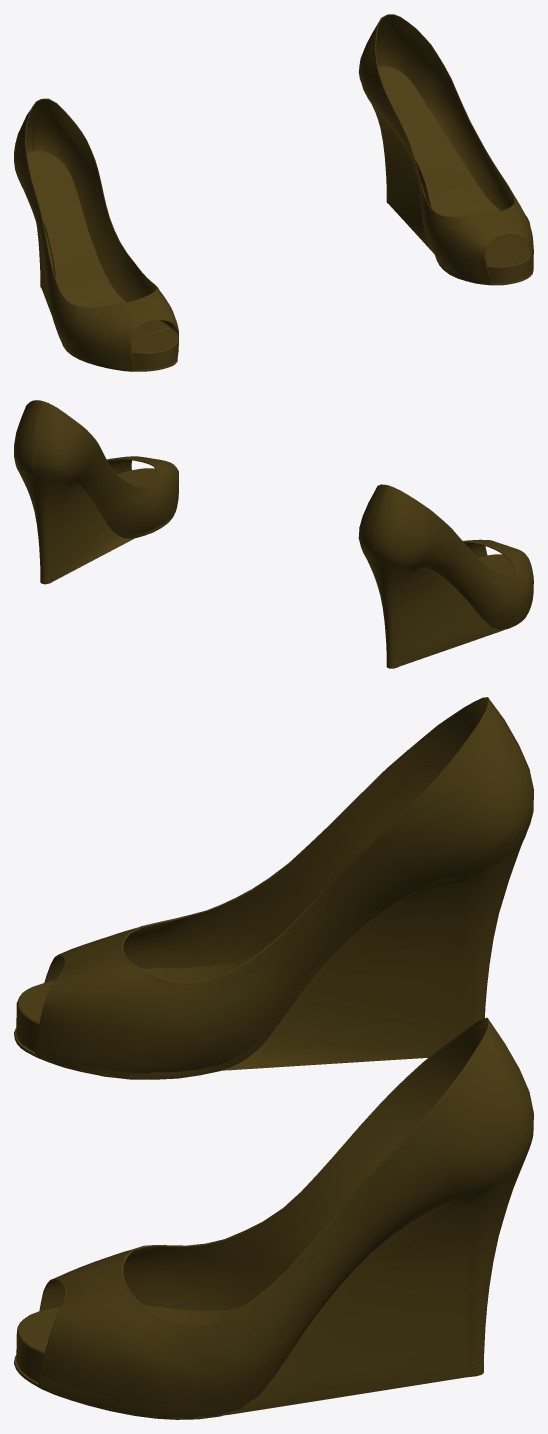
Rendered from Wshoes.glb.
The picture shows the model from 3 angles, top to bottom: view 1: azimuth 30°, elevation 25°; view 2: azimuth 150°, elevation 25°; view 3: azimuth 270°, elevation 25°; orthographic projection. The views are drawn at different scales.
Parts seen in each view (by area): view 1: Wshoes; view 2: Wshoes; view 3: Wshoes.
Boxes of the visible parts, x1=… form: Wshoes: x1=14, y1=14, x2=533, y2=371; Wshoes: x1=14, y1=400, x2=533, y2=668; Wshoes: x1=14, y1=697, x2=533, y2=1419.
Size of the model in its own units: 41.51 by 15.99 by 21.5.
1 material, 1 textured.
